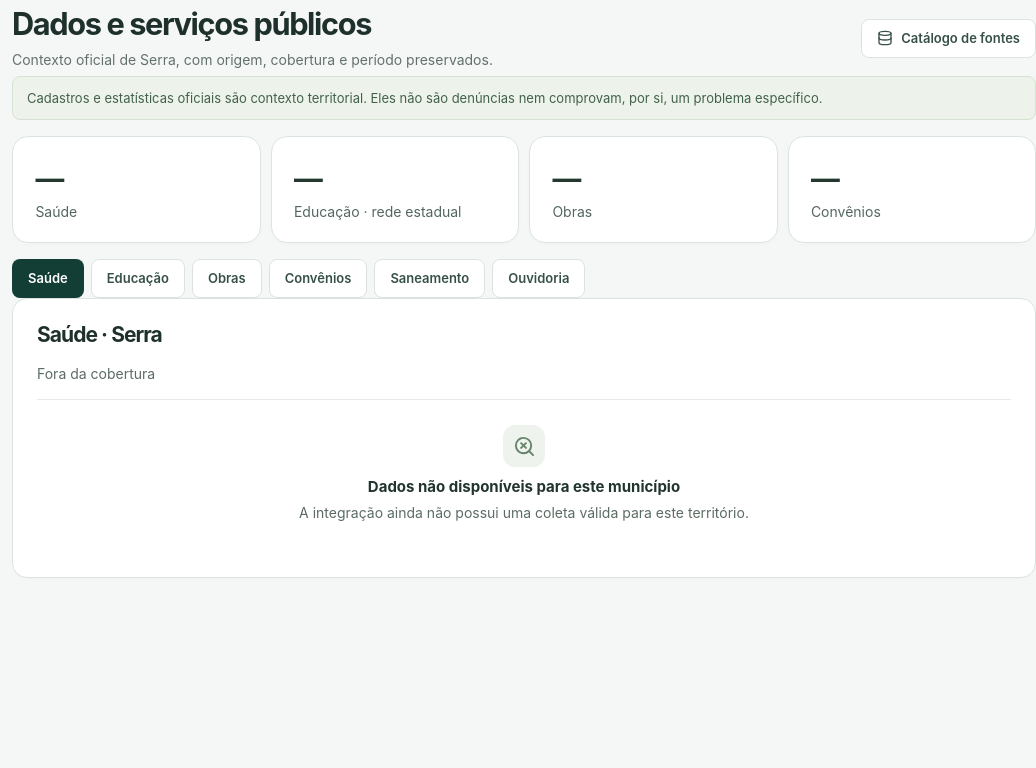
separates the public dashboard from an authenticated FalaBR integration
Click the tab "Ouvidoria": point(539, 279) [492,259,585,298]
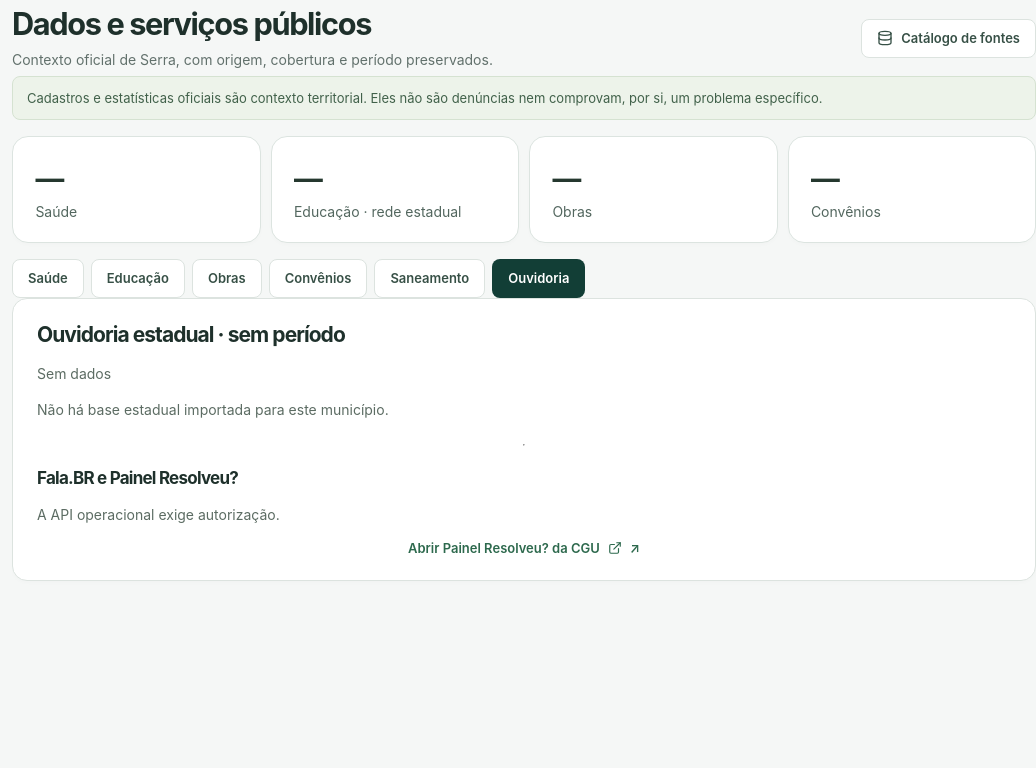
Now the text "A API operacional exige autorização." is shown, box [37,506,280,523]
